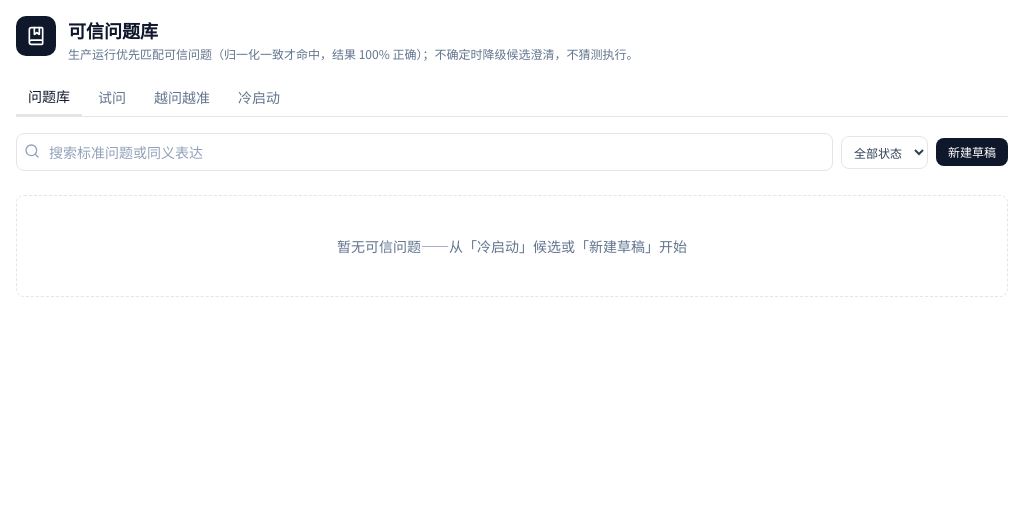
Scenario: QuestionLibraryPage 可信问题库页 › 试问命中后可执行查询
The width and height of the screenshot is (1025, 516).
Click the button "试问" at (112, 97), box [86,78,138,116]
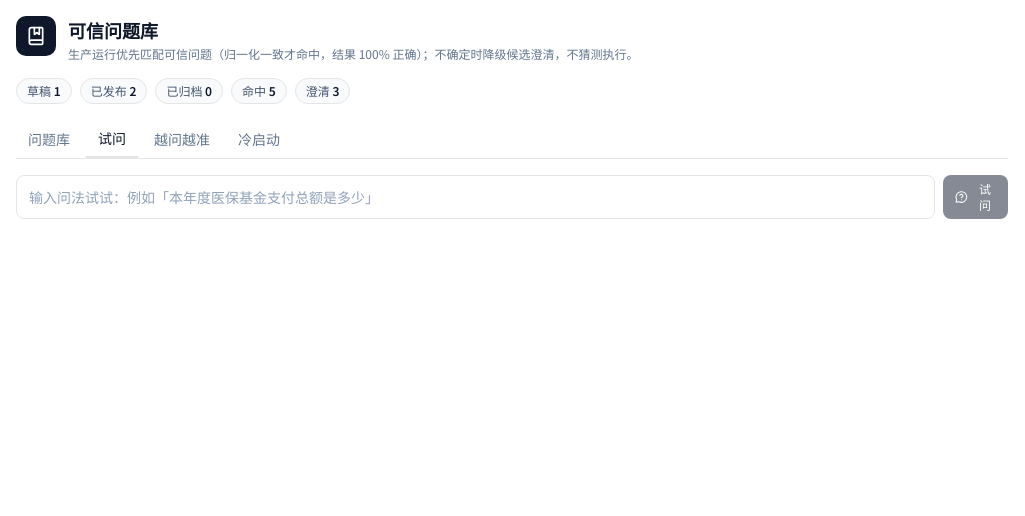
Expected: the field with test id "qlib-try-input" is shown
Type "本年度医保基金支付总额是多少？" into the field with test id "qlib-try-input" at (476, 197), box [16,175,935,219]
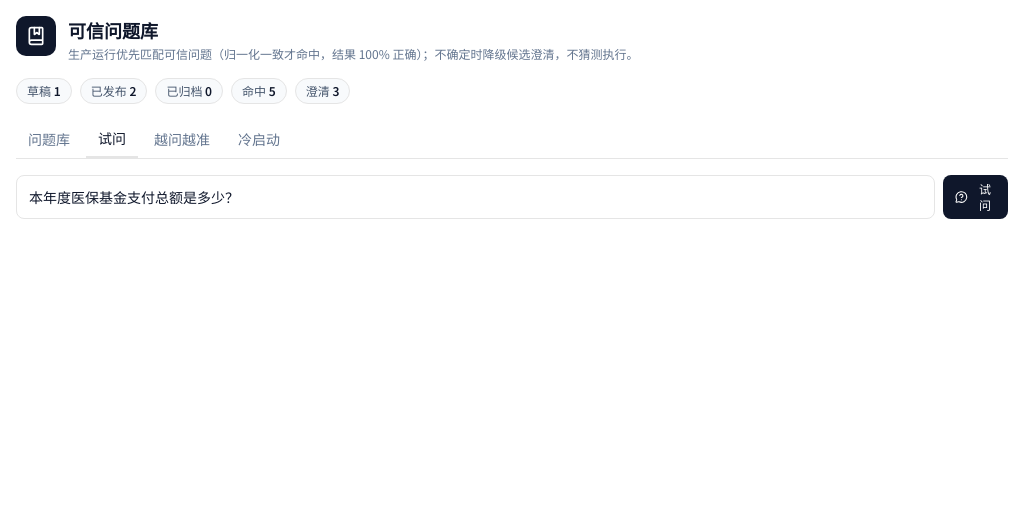
Click the button with test id "qlib-try-button" at (976, 197), box [943,175,1008,219]
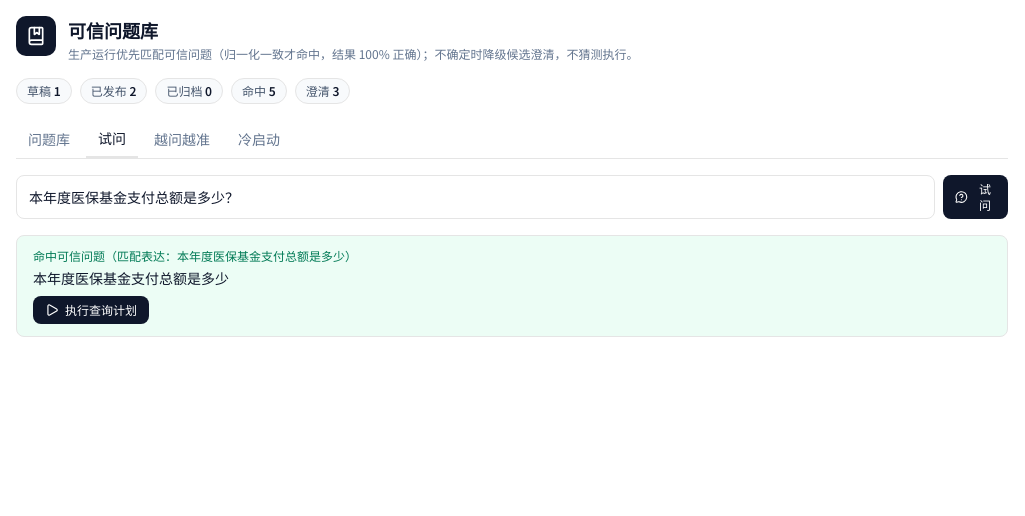
Expected: the element with test id "qlib-try-hit" is shown, [16,235,1008,337]
Click the button with test id "qlib-try-execute" at (91, 310), box [33,296,149,324]
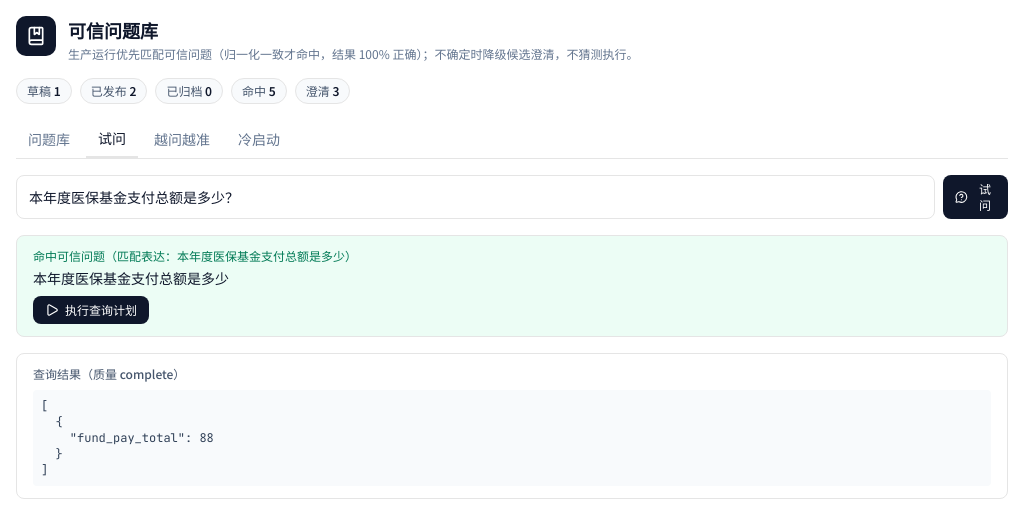
Expected: the element with test id "qlib-try-result" is shown, [16,353,1008,499]
Expected: the text "查询结果（质量 complete）" is shown, [33,365,185,382]
